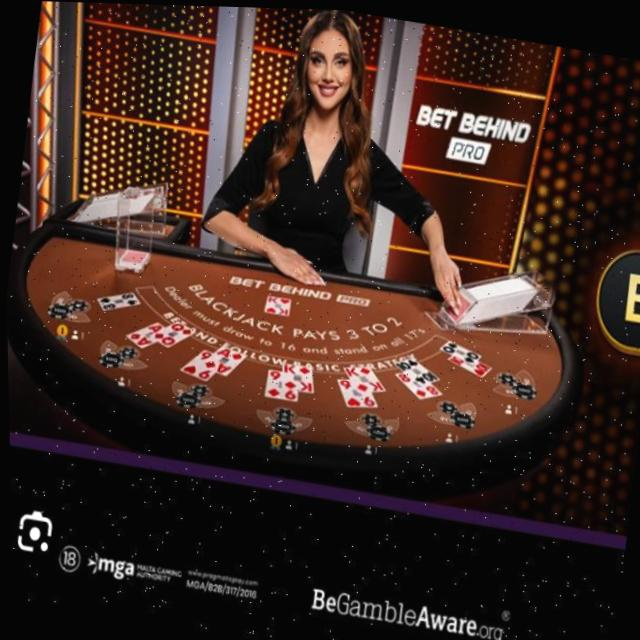Card-10: (394, 353, 437, 382), (447, 353, 490, 375)
Card-8: (392, 370, 440, 398), (95, 290, 138, 311)
Card-9: (264, 366, 297, 401), (179, 349, 214, 381), (335, 378, 375, 406)
Card-A: (204, 344, 245, 376), (124, 320, 163, 349)
Card-K: (341, 362, 383, 390), (280, 360, 311, 392), (263, 293, 290, 315)
Card-Q: (153, 321, 194, 348), (438, 337, 481, 361)
